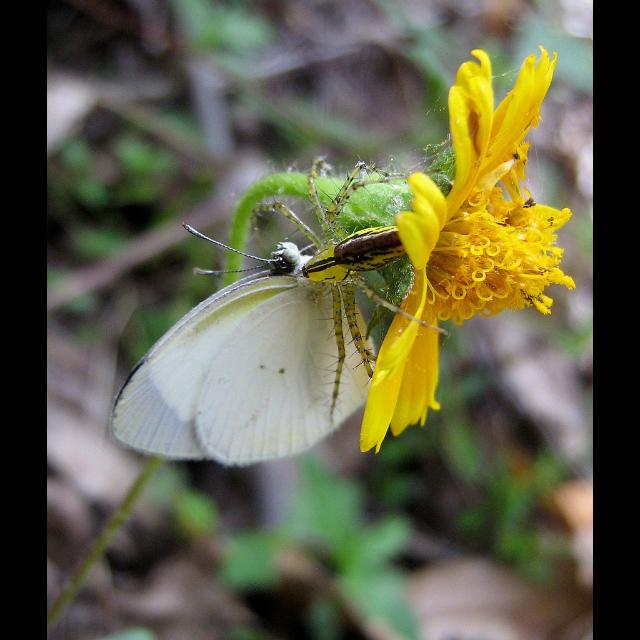Flower: (331, 64, 574, 402)
